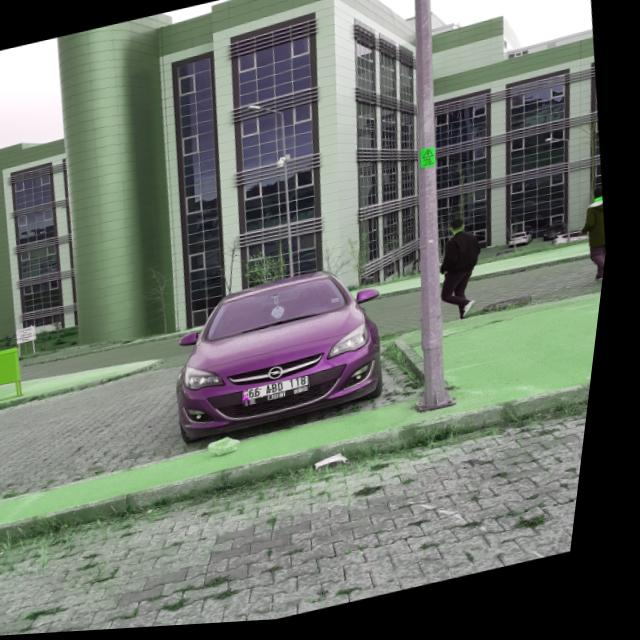license_plate: (252, 380, 320, 408)
